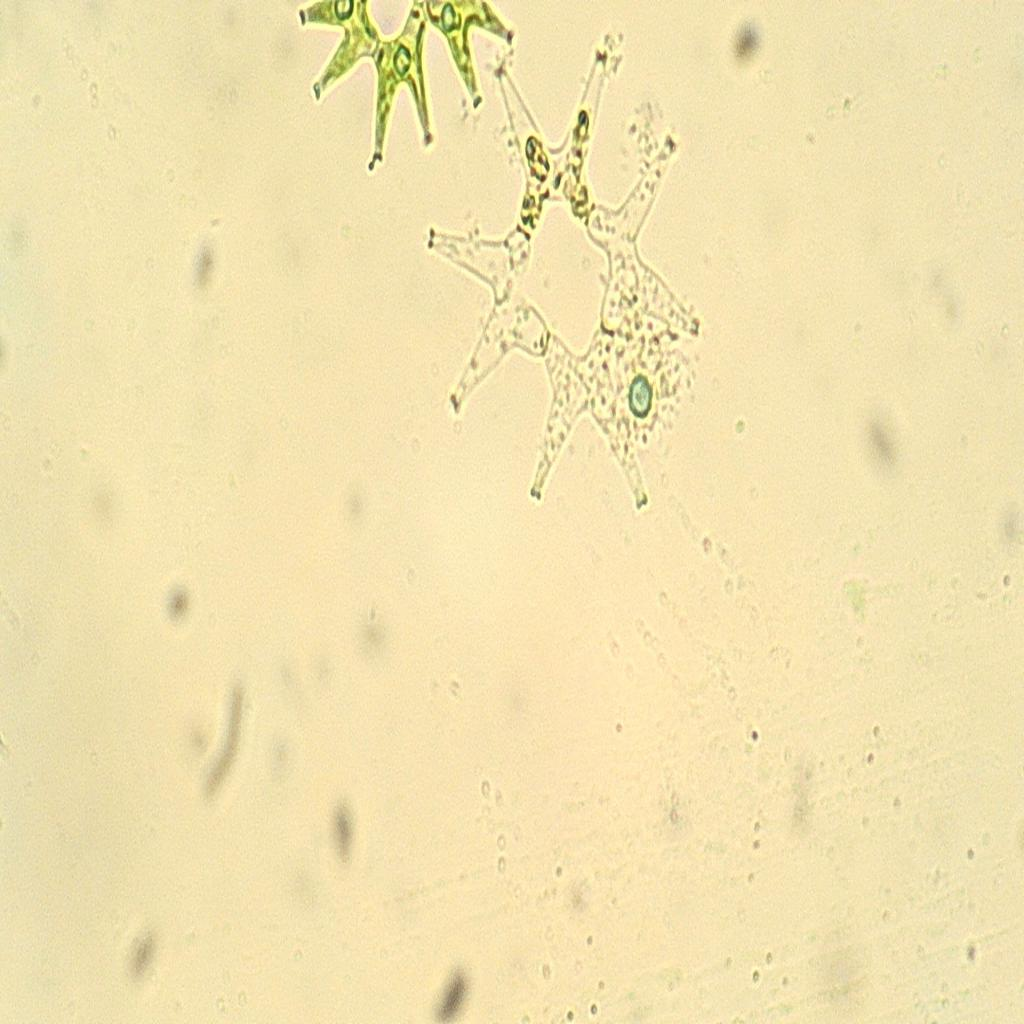Pediastrum_75TH: (418, 40, 709, 533)
